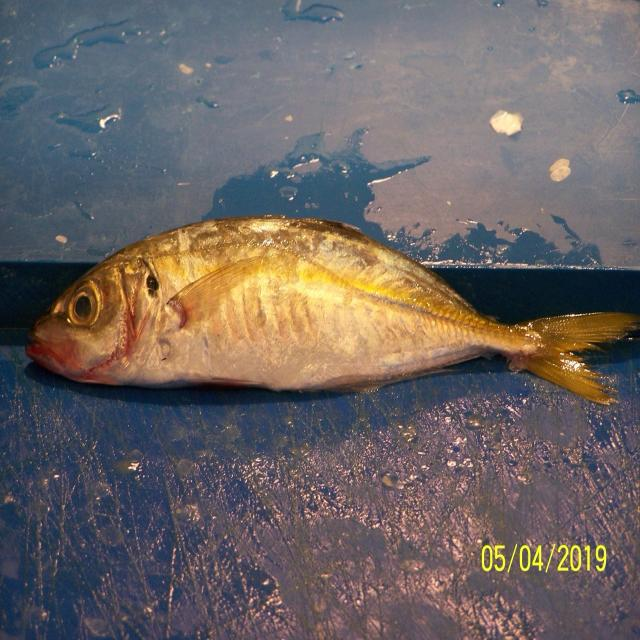Hourse-Mackerel-istavrit-: (26, 215, 613, 406)
